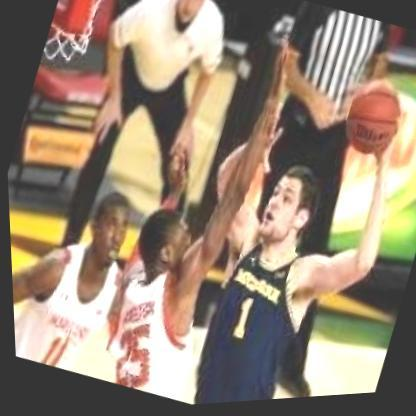basketball: (332, 76, 411, 169)
